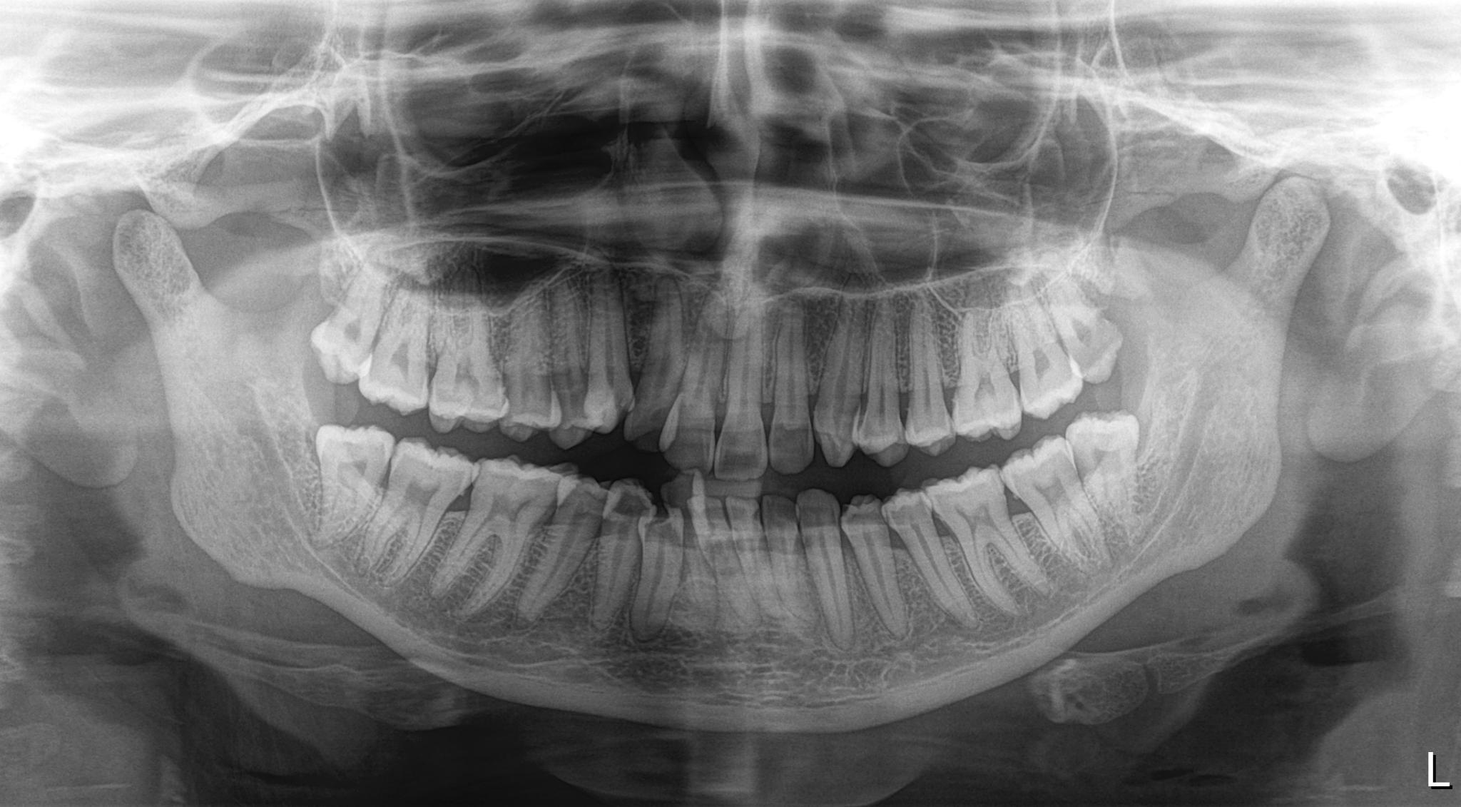Dental Caries: (640, 516, 688, 567), (667, 464, 708, 513), (615, 485, 647, 521)
